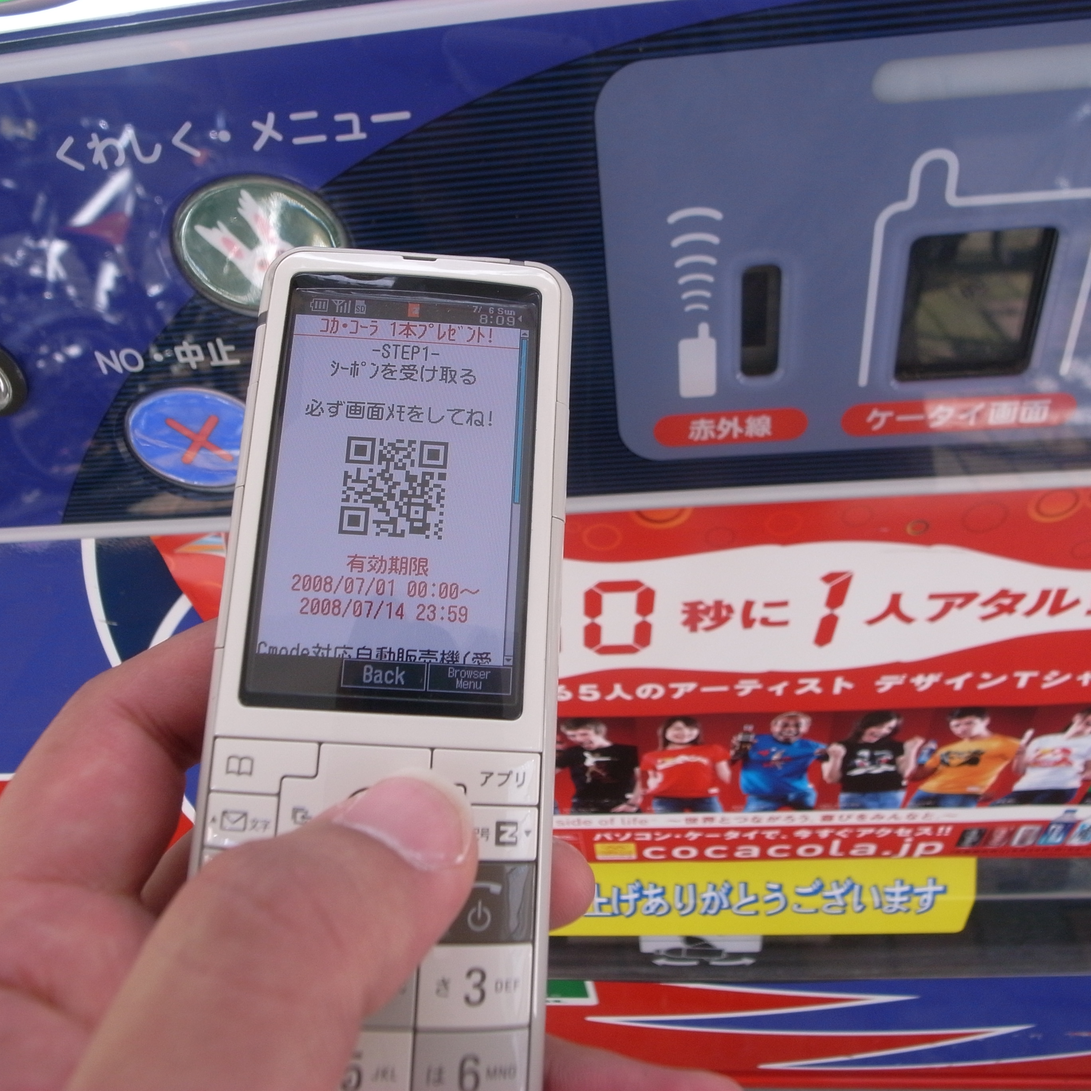QR-CODE: (338, 436, 448, 540)
